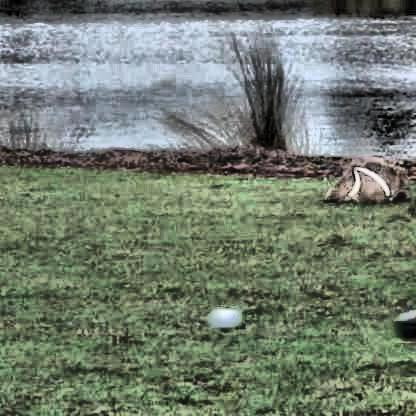golfball: (207, 302, 241, 330)
